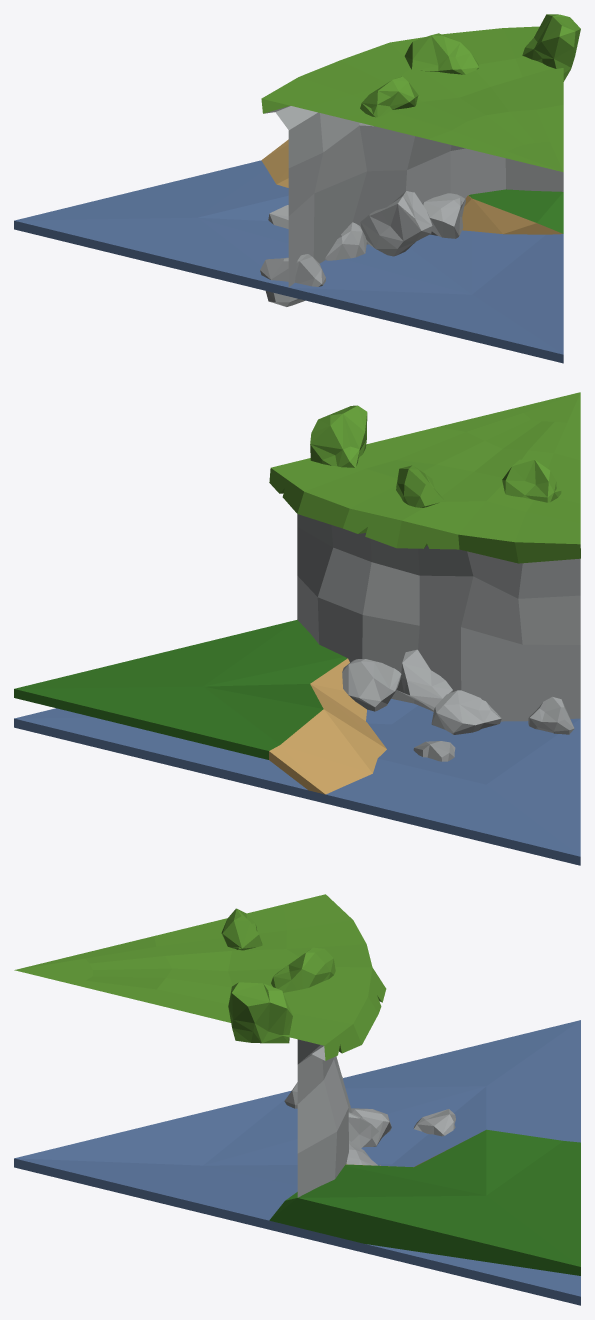
The picture shows the model from 3 angles, top to bottom: view 1: azimuth 30°, elevation 25°; view 2: azimuth 150°, elevation 25°; view 3: azimuth 270°, elevation 25°; orthographic projection. The views are drawn at different scales.
Visible parts, largest first — view 1: water4.002, hill8.001, ground.005, rock0.014, bush2.004, bush1.004, rock1.002, bush3.004, rock5.002, rock3.002; view 2: hill8.001, water4.002, ground.005, bush2.004, rock5.002, rock3.002, rock0.014, bush3.004, bush1.004, rock1.002, rock4.002; view 3: water4.002, hill8.001, ground.005, bush2.004, bush1.004, bush3.004, rock4.002, rock3.002, rock0.014.
Part boxes in pixels (x1,y1,x2,y2): water4.002: (14,160,563,363); hill8.001: (261,26,563,287); ground.005: (261,139,563,234); rock0.014: (360,191,432,256); bush2.004: (522,14,580,81); bush1.004: (404,33,478,74); rock1.002: (260,254,325,306); bush3.004: (360,76,419,117); rock5.002: (422,193,465,238); rock3.002: (325,222,366,260); hill8.001: (269,392,580,721); water4.002: (14,699,580,865); ground.005: (14,619,386,794); bush2.004: (310,405,367,467); rock5.002: (342,659,401,711); rock3.002: (431,690,501,734); rock0.014: (397,649,452,711); bush3.004: (502,459,561,502); bush1.004: (396,465,444,507); rock1.002: (528,697,574,734); rock4.002: (413,741,455,761); water4.002: (14,1020,580,1305); hill8.001: (14,894,386,1197); ground.005: (269,1129,580,1275); bush2.004: (228,982,292,1043); bush1.004: (271,947,335,992); bush3.004: (221,908,262,950); rock4.002: (413,1109,455,1136); rock3.002: (351,1108,391,1147); rock0.014: (348,1112,378,1148).
Bounding box in the file's own units: 1 × 0.5012 × 0.866.
